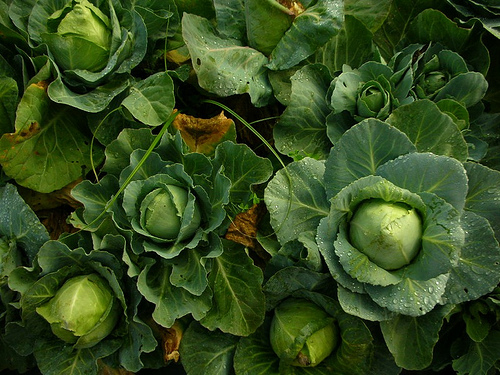cabbage: (63, 121, 281, 340), (7, 239, 158, 374), (5, 0, 153, 107), (345, 187, 422, 271)
